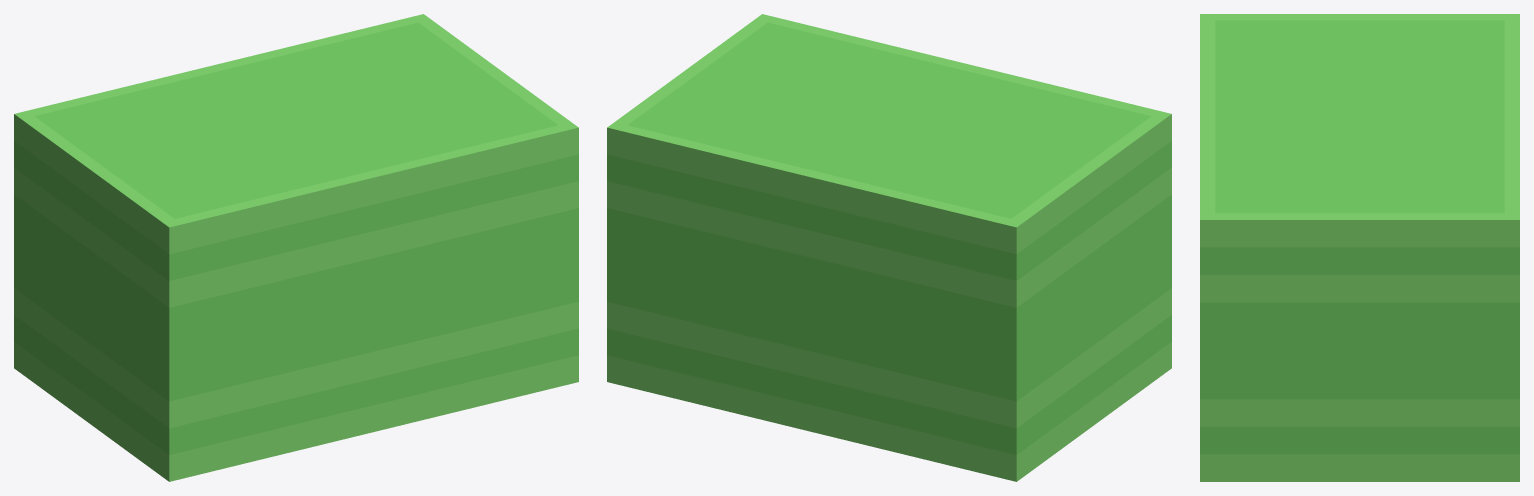
The model's file is tree_oak_01-2.obj.
3 renders of one model, left to right at view 1: azimuth 30°, elevation 25°; view 2: azimuth 150°, elevation 25°; view 3: azimuth 270°, elevation 25°, orthographic. The views are drawn at different scales.
Bounding box in the file's own units: 3.2 × 1.9 × 2.1.
1 material, 1 textured.
